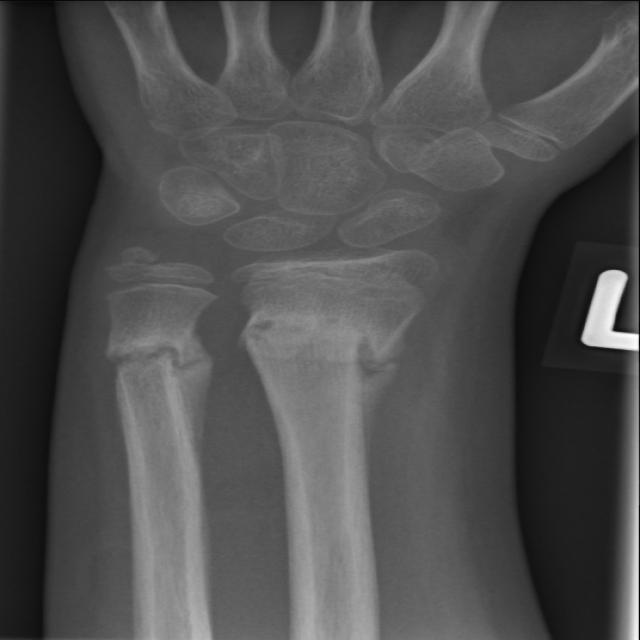radius fracture: (236, 284, 422, 522)
ulna fracture: (73, 311, 235, 480)
